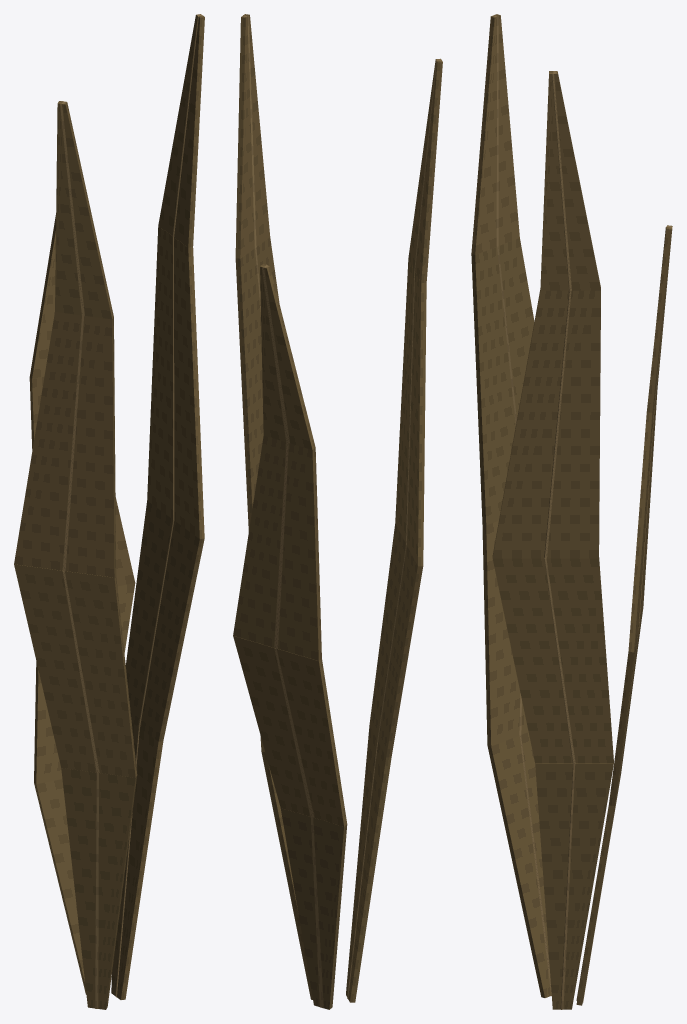
Rendered from f_kelp_sugar.glb.
The picture shows the model from 3 angles, left to right: view 1: azimuth 30°, elevation 25°; view 2: azimuth 150°, elevation 25°; view 3: azimuth 270°, elevation 25°; orthographic projection.
Visible parts, largest first — view 1: block_wavy-leaflike-frond (×12), block_frond-midrib-4 (×2), block_frond-midrib-3, block_frond-midrib-1, block_frond-midrib-2; view 2: block_wavy-leaflike-frond (×11), block_frond-midrib-4 (×2), block_frond-midrib-3, block_frond-midrib-1, block_frond-midrib-2; view 3: block_wavy-leaflike-frond (×12), block_frond-midrib-1 (×2), block_frond-midrib-4 (×2), block_frond-midrib-3, block_frond-midrib-2.
Part boxes in pixels (box(x1,y1,x2,y2)): block_wavy-leaflike-frond (×12): box(14, 14, 204, 1009); block_frond-midrib-4 (×2): box(60, 14, 202, 315); block_frond-midrib-3: box(62, 315, 84, 571); block_frond-midrib-1: box(95, 773, 98, 1008); block_frond-midrib-2: box(62, 571, 99, 772); block_wavy-leaflike-frond (×11): box(233, 14, 442, 1009); block_frond-midrib-4 (×2): box(242, 15, 289, 443); block_frond-midrib-3: box(274, 442, 288, 648); block_frond-midrib-1: box(310, 817, 323, 1008); block_frond-midrib-2: box(274, 648, 314, 817); block_wavy-leaflike-frond (×12): box(471, 14, 672, 1009); block_frond-midrib-1 (×2): box(519, 735, 575, 1009); block_frond-midrib-4 (×2): box(492, 15, 571, 290); block_frond-midrib-3: box(544, 291, 571, 558); block_frond-midrib-2: box(544, 558, 575, 764).
Bounding box in the file's own units: 0.4596 × 2.28 × 0.4274.
Materials: 1 (1 with a texture image).
